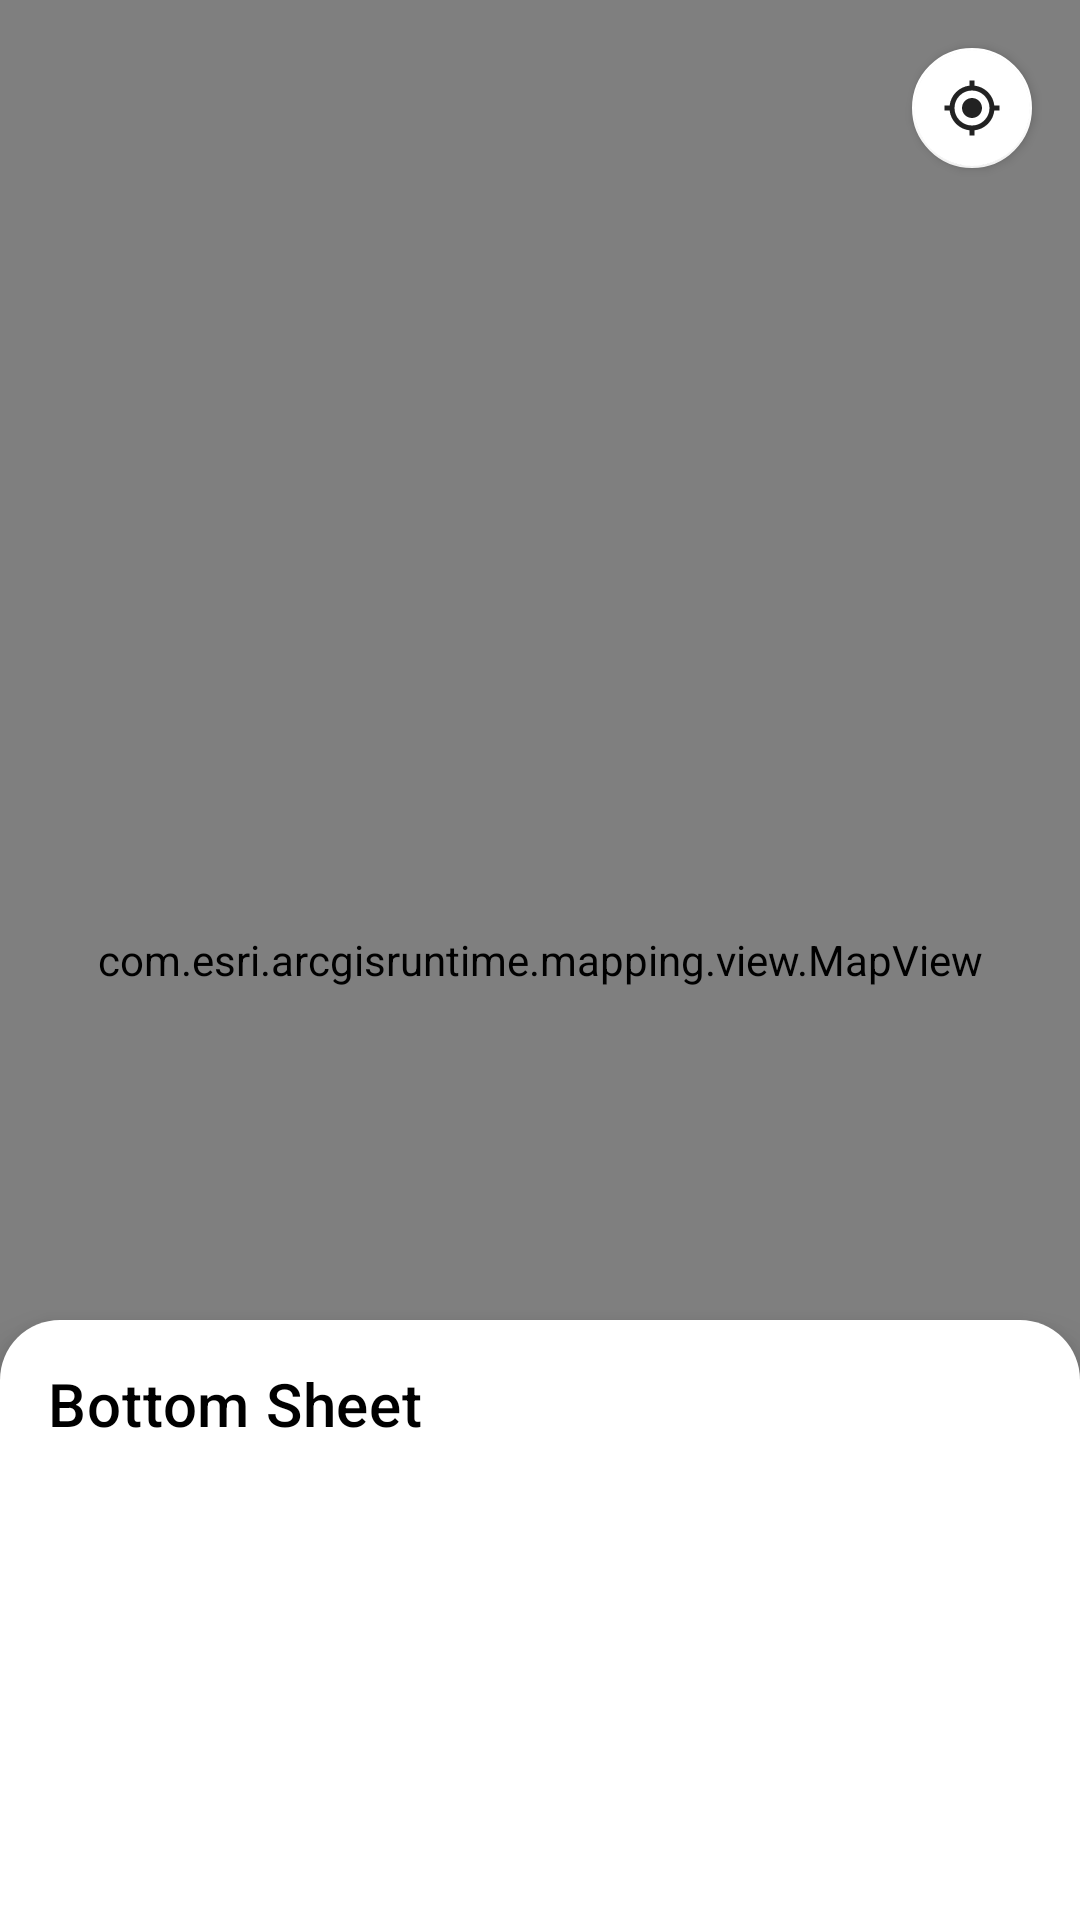

Where icons sit on this 1080×1920 app screen, as (x1, y1, x2, y2):
location: (912, 48, 1032, 168)
